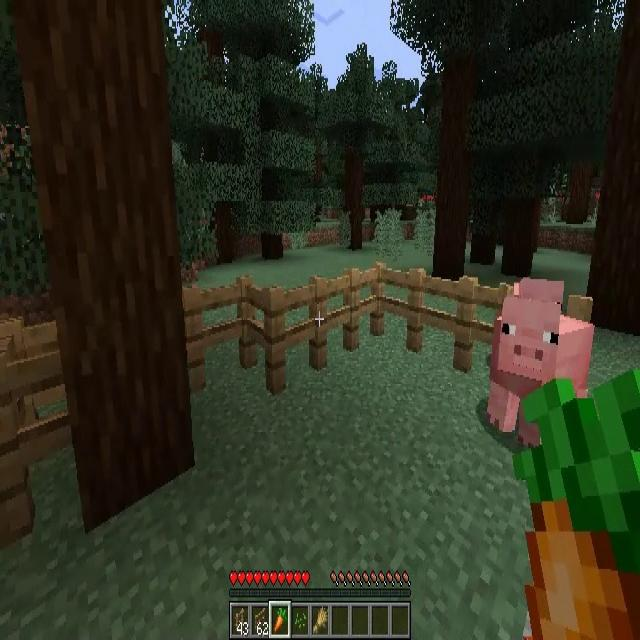pig: (490, 295, 592, 441)
